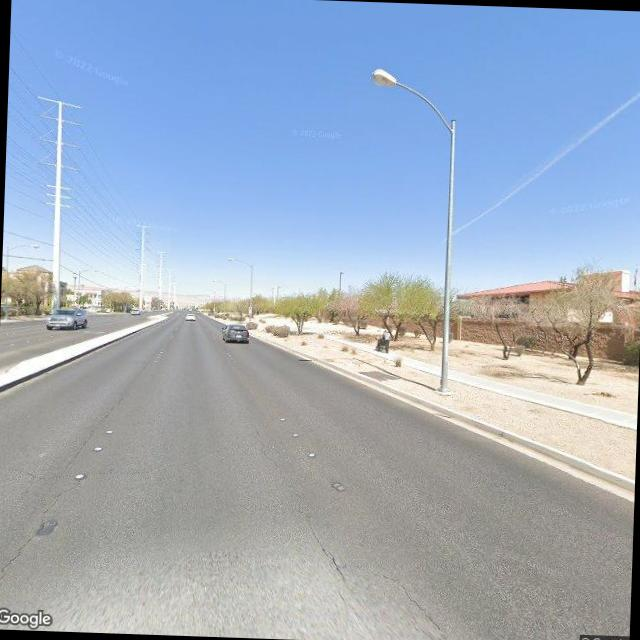crack: (0, 466, 89, 611), (359, 566, 462, 640), (300, 512, 350, 588)
